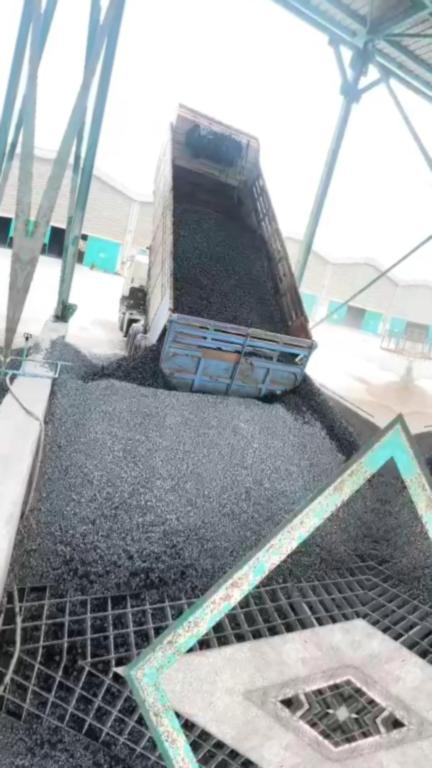gravel: (10, 327, 363, 600), (175, 209, 287, 335), (275, 479, 385, 585)
sand: (336, 373, 406, 427)
